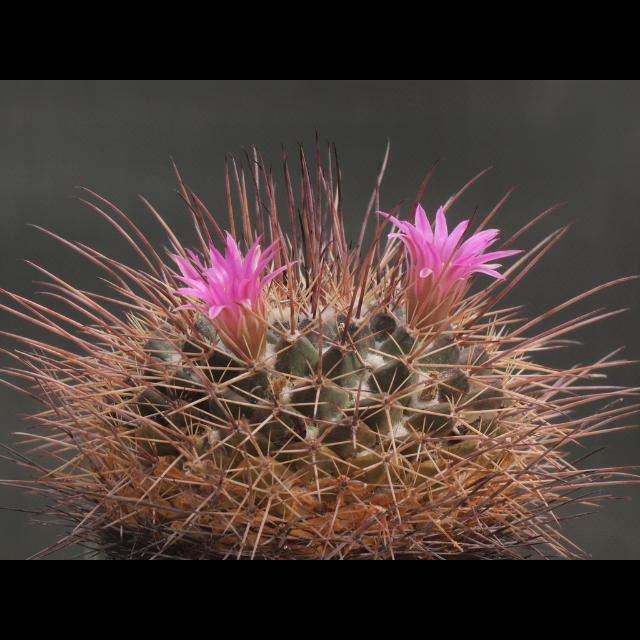Flower: (374, 202, 538, 336), (172, 230, 278, 356)
